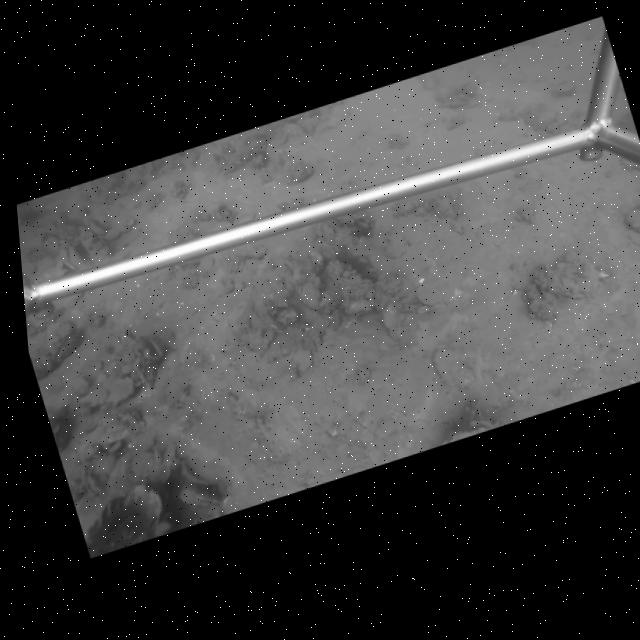Oyster-Closed: (534, 250, 600, 299), (428, 346, 476, 390), (381, 303, 405, 344), (104, 376, 136, 405), (327, 270, 370, 289), (411, 284, 440, 308), (526, 298, 555, 321), (300, 280, 321, 310), (385, 232, 408, 259), (121, 328, 148, 348), (293, 347, 315, 371), (237, 246, 268, 259), (294, 280, 301, 300), (310, 262, 317, 276)
Oyster-Open: (143, 336, 165, 361)
